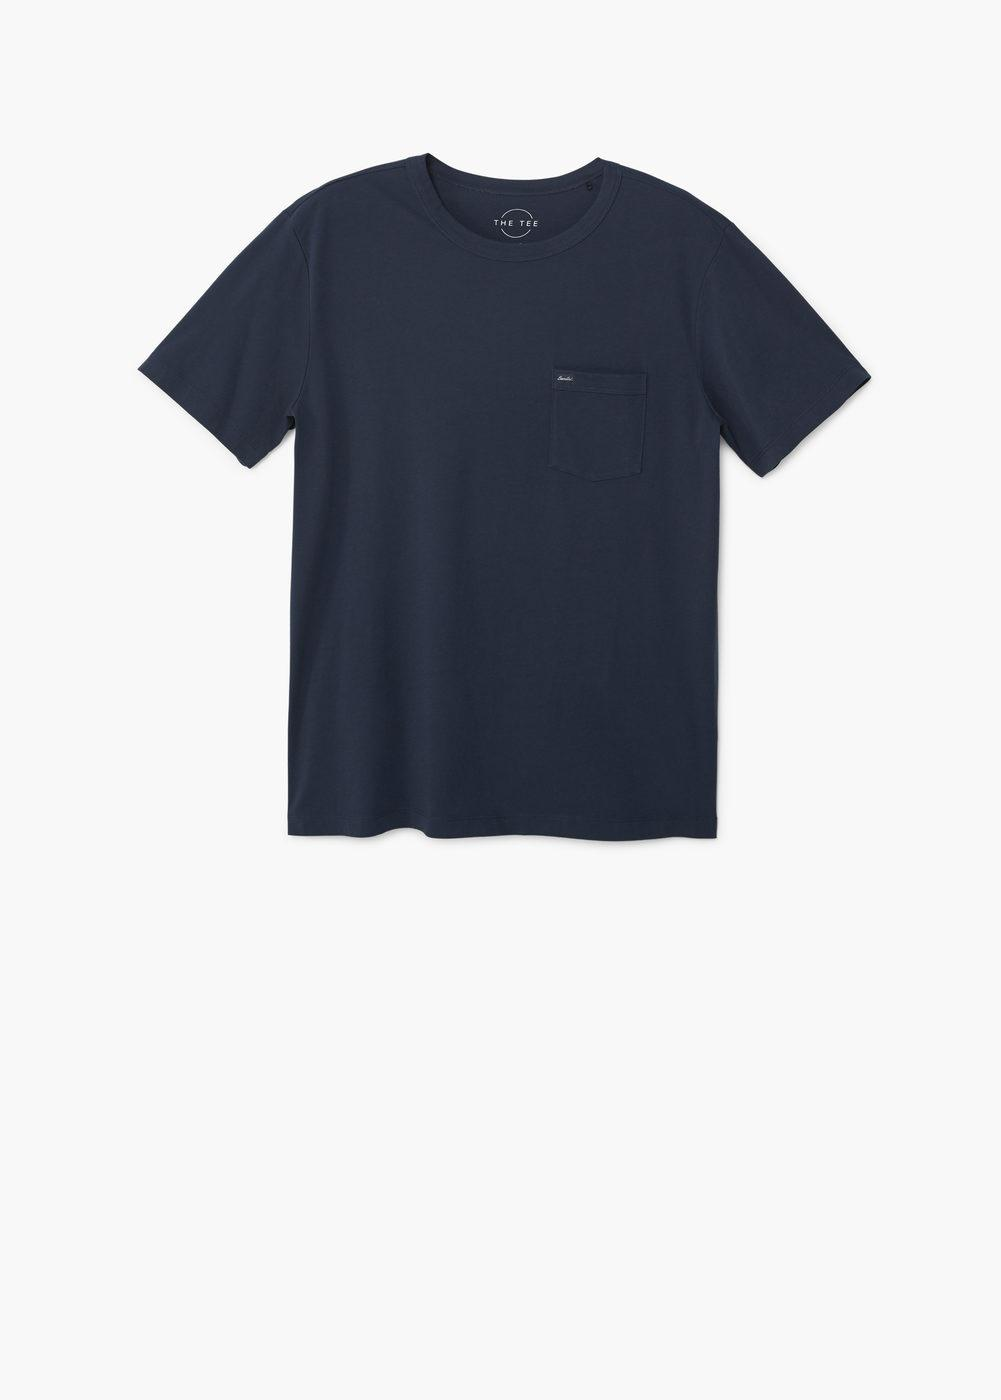teeshirt: (108, 144, 912, 880)
